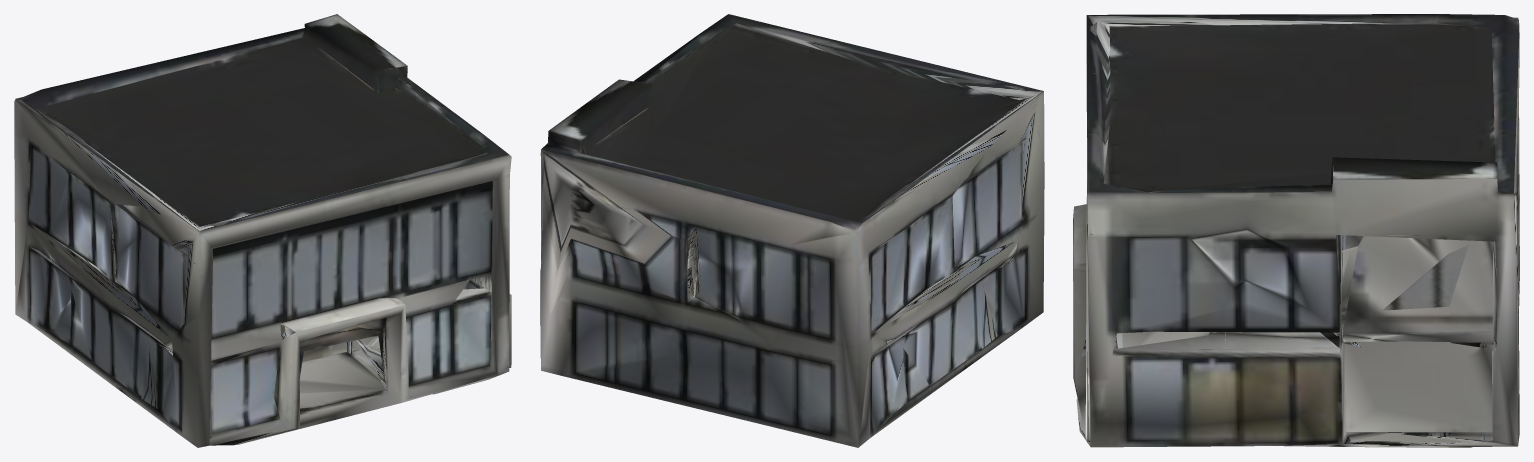
Rendered from now-office.lod.glb.
3 views of the same model, side by side, from view 1: azimuth 30°, elevation 25°; view 2: azimuth 150°, elevation 25°; view 3: azimuth 270°, elevation 25° (orthographic). The views are drawn at different scales.
Parts seen in each view (by area): view 1: world; view 2: world; view 3: world.
Boxes of the visible parts, <box> form: world: <box>14,14,511,447</box>; world: <box>540,14,1044,447</box>; world: <box>1073,14,1519,447</box>.
Bounding box in the file's own units: 1.42 × 0.9987 × 1.48.
Materials: 1 (1 with a texture image).
